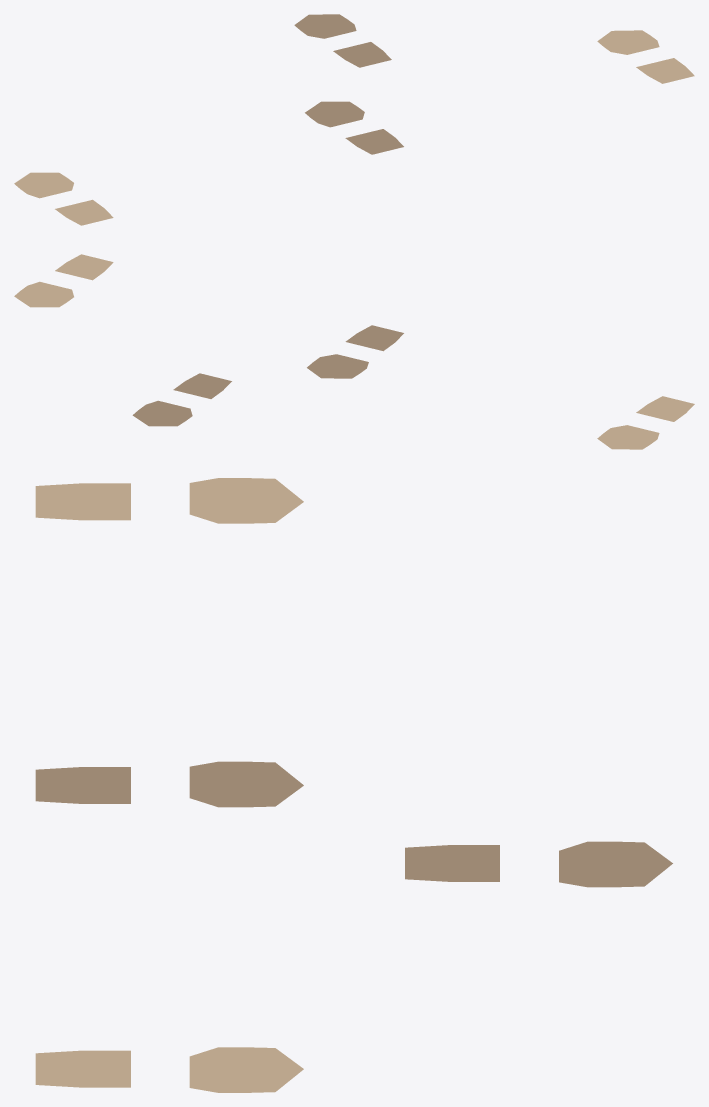
The model's file is footprint.fbx.
3 views of the same model, one above another, from view 1: azimuth 30°, elevation 25°; view 2: azimuth 150°, elevation 25°; view 3: azimuth 270°, elevation 25° (orthographic). The views are drawn at different scales.
Visible parts, largest first — view 1: Footprint_Pair_Stride, Footprint_Left, Footprint_Right; view 2: Footprint_Pair_Stride, Footprint_Right, Footprint_Left; view 3: Footprint_Pair_Stride, Footprint_Left, Footprint_Right.
Boxes of the visible parts, left/top/right/bottom form: Footprint_Pair_Stride: left=294, top=14, right=403, bottom=154; Footprint_Left: left=14, top=172, right=113, bottom=225; Footprint_Right: left=597, top=30, right=694, bottom=83; Footprint_Pair_Stride: left=132, top=325, right=403, bottom=426; Footprint_Right: left=14, top=254, right=113, bottom=307; Footprint_Left: left=597, top=396, right=694, bottom=449; Footprint_Pair_Stride: left=35, top=761, right=672, bottom=887; Footprint_Left: left=35, top=478, right=303, bottom=523; Footprint_Right: left=35, top=1047, right=303, bottom=1092.
Bounding box in the file's own units: 173 × 1.24e-05 × 76.
